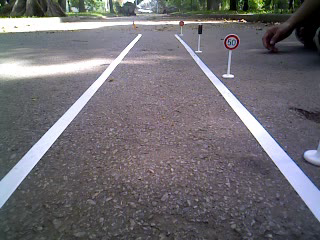limit 50: (221, 34, 241, 49)
